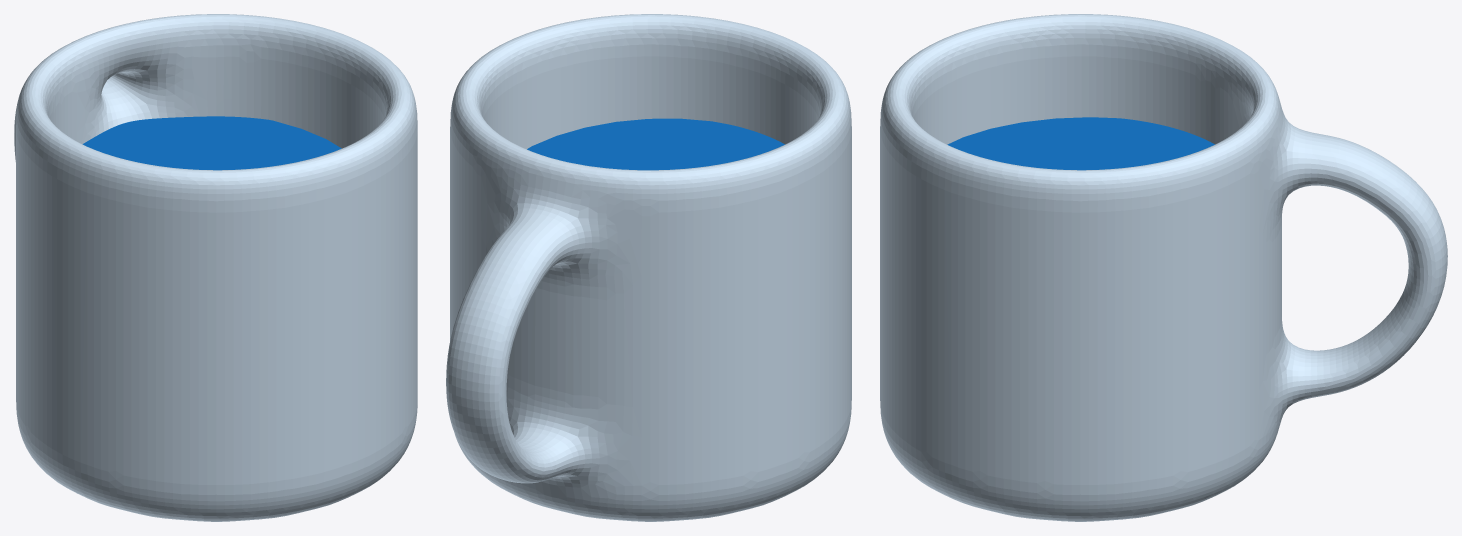
The model's file is waterglass.obj.
3 views of the same model, side by side, from view 1: azimuth 30°, elevation 25°; view 2: azimuth 150°, elevation 25°; view 3: azimuth 270°, elevation 25° (orthographic).
Visible parts, largest first — view 1: Цилиндр, Цилиндр.001; view 2: Цилиндр, Цилиндр.001; view 3: Цилиндр, Цилиндр.001.
Boxes of the visible parts, <box> form: Цилиндр: <box>14,14,417,521</box>; Цилиндр.001: <box>82,116,341,170</box>; Цилиндр: <box>446,14,851,521</box>; Цилиндр.001: <box>527,118,784,170</box>; Цилиндр: <box>880,14,1447,521</box>; Цилиндр.001: <box>947,117,1214,170</box>.
Size of the model in its own units: 1.96 by 1.98 by 2.77.
